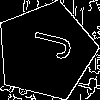J: (21, 26, 74, 62)
